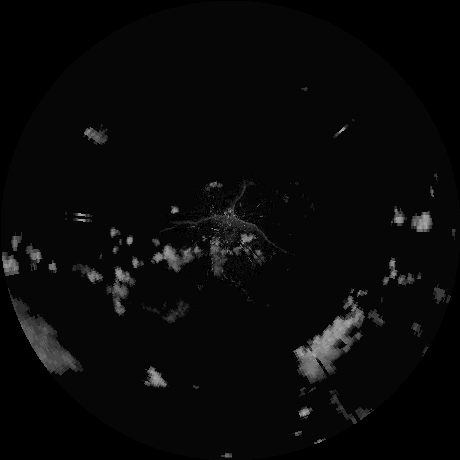frontgust: (185, 214, 271, 239)
